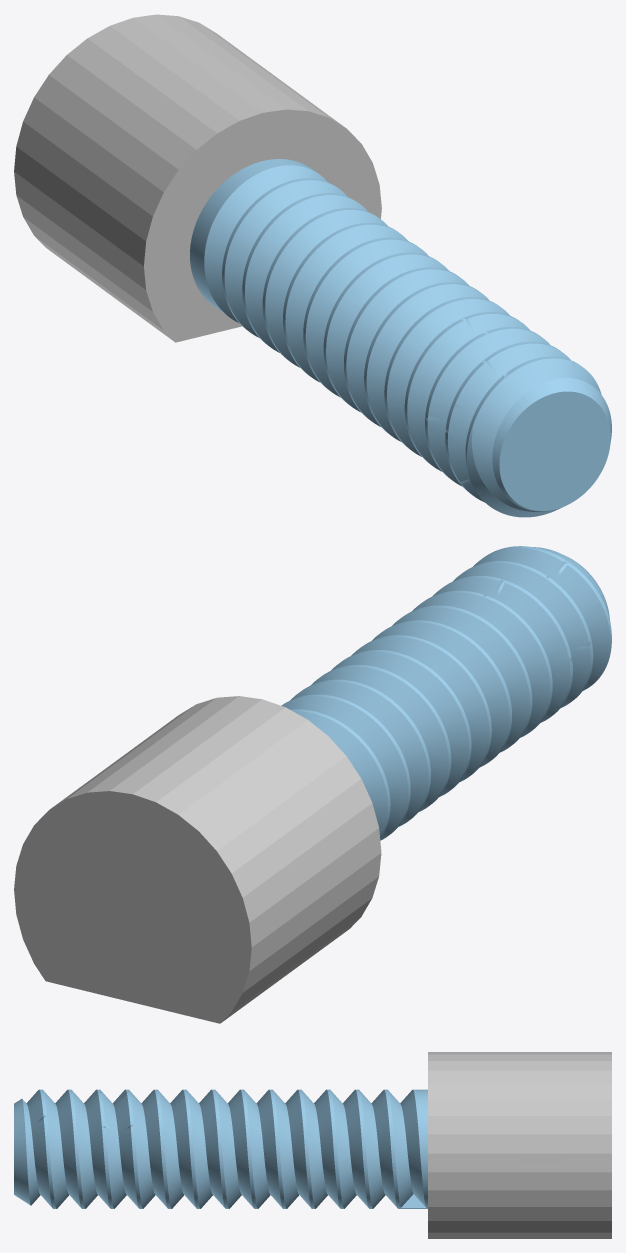
Rendered from bolt1.obj.
3 renders of one model, top to bottom at view 1: azimuth 30°, elevation 25°; view 2: azimuth 150°, elevation 25°; view 3: azimuth 270°, elevation 25°, orthographic. The views are drawn at different scales.
Visible parts, largest first — view 1: Cylinder_Cylinder.001, mesh4, mesh3, mesh8, mesh7; view 2: Cylinder_Cylinder.001, mesh5, mesh3; view 3: Cylinder_Cylinder.001, mesh4, mesh5, mesh3, mesh7.
Part boxes in pixels (box(x1,y1,x2,y2)): Cylinder_Cylinder.001: box(14, 14, 381, 342); mesh4: box(204, 165, 601, 511); mesh3: box(190, 159, 578, 494); mesh8: box(499, 391, 610, 510); mesh7: box(466, 378, 611, 517); Cylinder_Cylinder.001: box(14, 696, 381, 1023); mesh5: box(281, 547, 610, 840); mesh3: box(283, 546, 611, 838); Cylinder_Cylinder.001: box(428, 1052, 611, 1238); mesh4: box(26, 1089, 425, 1208); mesh5: box(22, 1090, 413, 1208); mesh3: box(39, 1089, 427, 1208); mesh7: box(14, 1099, 30, 1205).
Bounding box in the file's own units: 0.028 × 0.0234 × 0.086.
